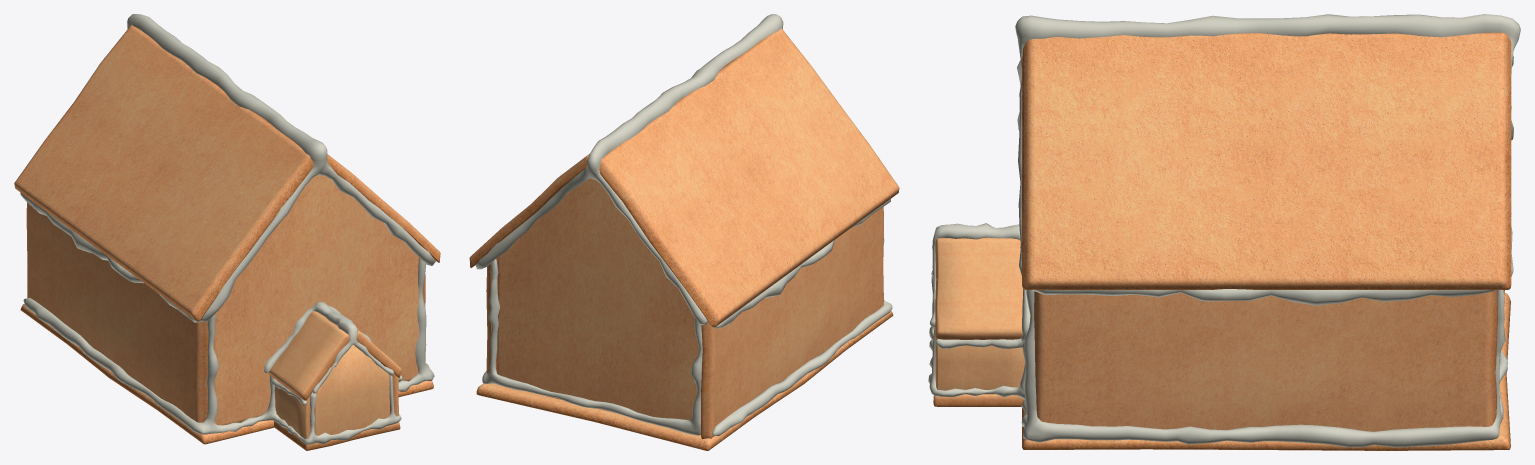
The model's file is House_Main_Frame_Roof.glb.
3 views of the same model, side by side, from view 1: azimuth 30°, elevation 25°; view 2: azimuth 150°, elevation 25°; view 3: azimuth 270°, elevation 25° (orthographic). The views are drawn at different scales.
Parts seen in each view (by area): view 1: House_Main_Frame, Big_Roof, Big_Roof_Piping, House_Main_Piping, Small_Roof, Small_Roof_Piping; view 2: House_Main_Frame, Big_Roof, Big_Roof_Piping, House_Main_Piping; view 3: Big_Roof, House_Main_Frame, Big_Roof_Piping, House_Main_Piping, Small_Roof, Small_Roof_Piping.
Part boxes in pixels (x1,y1,x2,y2): House_Main_Frame: [20, 174, 433, 450]; Big_Roof: [14, 25, 440, 321]; Big_Roof_Piping: [20, 14, 435, 322]; House_Main_Piping: [23, 258, 434, 444]; Small_Roof: [268, 311, 401, 400]; Small_Roof_Piping: [264, 302, 402, 405]; House_Main_Frame: [476, 178, 893, 450]; Big_Roof: [469, 28, 899, 327]; Big_Roof_Piping: [475, 14, 890, 328]; House_Main_Piping: [482, 239, 892, 436]; Big_Roof: [1022, 32, 1511, 289]; House_Main_Frame: [933, 290, 1510, 450]; Big_Roof_Piping: [1015, 14, 1520, 305]; House_Main_Piping: [928, 275, 1507, 447]; Small_Roof: [935, 237, 1022, 339]; Small_Roof_Piping: [930, 223, 1030, 348].
Size of the model in its own units: 0.0941 by 0.0985 by 0.1461.
Materials: 9 (8 with a texture image).
